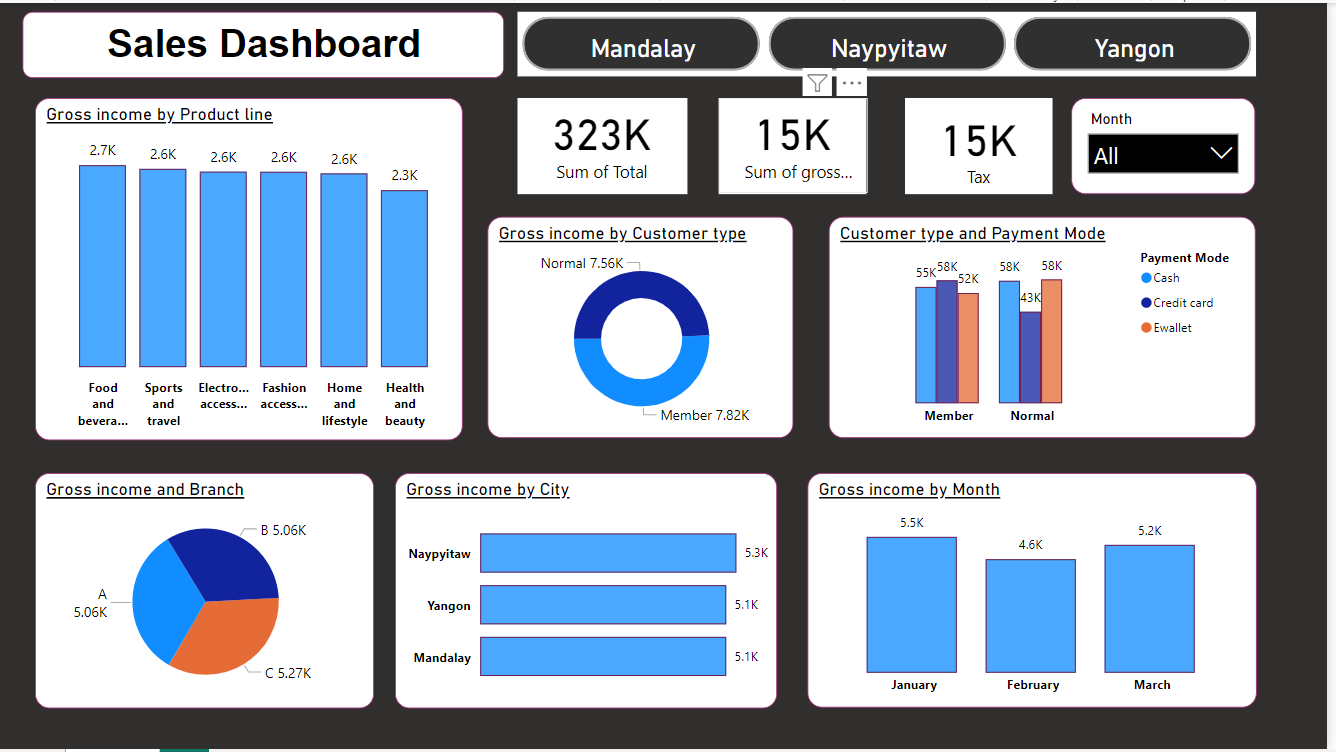

Layout of this report page (visuals, bound fields, positions):
{"tool":"powerbi","page":{"name":"Page 1","canvas":[1280,720],"ordinal":0},"visuals":[{"type":"textbox","box":[21.7,8.4,464.5,63.9],"z":0},{"type":"columnChart","title":"Gross income by Month","fields":{"Category":["supermarket_sales - Sheet1.Date.Variation.Date Hierarchy.Month"],"Y":["Sum(supermarket_sales - Sheet1.gross income)"]},"box":[779.7,453.3,433.3,226.6],"z":1000},{"type":"donutChart","title":"Gross income by Customer type","fields":{"Category":["supermarket_sales - Sheet1.Customer type"],"Y":["Sum(supermarket_sales - Sheet1.gross income)"]},"box":[470.4,206.7,295.1,213.8],"z":2000},{"type":"pieChart","title":"Gross income and Branch","fields":{"Y":["Sum(supermarket_sales - Sheet1.gross income)"],"Category":["supermarket_sales - Sheet1.Branch"]},"box":[33.8,453.6,326.9,226.8],"z":3000},{"type":"barChart","title":"Gross income by City","fields":{"Category":["supermarket_sales - Sheet1.City"],"Y":["Sum(supermarket_sales - Sheet1.gross income)"]},"box":[381.2,453.6,369.2,226.8],"z":4000},{"type":"advancedSlicerVisual","fields":{"Values":["supermarket_sales - Sheet1.City"]},"box":[499.5,8.4,713,62],"z":5000},{"type":"clusteredColumnChart","title":"Customer type and Payment Mode","fields":{"Category":["supermarket_sales - Sheet1.Customer type"],"Series":["supermarket_sales - Sheet1.Payment"],"Y":["Sum(supermarket_sales - Sheet1.Total)"]},"box":[799.6,206.7,411.9,213.8],"z":6000},{"type":"clusteredColumnChart","title":"Gross income by Product line","fields":{"Y":["Sum(supermarket_sales - Sheet1.gross income)"],"Category":["supermarket_sales - Sheet1.Product line"]},"box":[33.8,91.7,412.6,330.6],"z":7000},{"type":"cardVisual","fields":{"Data":["Sum(supermarket_sales - Sheet1.Total)"]},"box":[498.9,91.2,163.9,92.7],"z":8000},{"type":"cardVisual","fields":{"Data":["Sum(supermarket_sales - Sheet1.gross income)"]},"box":[694.2,91.2,142.5,92.7],"z":9000},{"type":"cardVisual","fields":{"Data":["Sum(supermarket_sales - Sheet1.Tax 5%)"]},"box":[873.8,91.2,142.5,92.7],"z":10000},{"type":"slicer","fields":{"Values":["supermarket_sales - Sheet1.Date.Variation.Date Hierarchy.Month"]},"box":[1033.9,91.7,177.3,92.9],"z":11000}]}

Visuals, with their boxes in screenshot pixels (x1, y1, x2, y2), scaled from the page's 1280x720 canvas onto the 1336x752 screenshot:
textbox: locate(23, 9, 507, 76)
"Gross income by Month" columnChart: locate(814, 473, 1266, 710)
"Gross income by Customer type" donutChart: locate(491, 216, 799, 439)
"Gross income and Branch" pieChart: locate(35, 474, 376, 711)
"Gross income by City" barChart: locate(398, 474, 783, 711)
advancedSlicerVisual - supermarket_sales - Sheet1.City: locate(521, 9, 1266, 74)
"Customer type and Payment Mode" clusteredColumnChart: locate(835, 216, 1265, 439)
"Gross income by Product line" clusteredColumnChart: locate(35, 96, 466, 441)
cardVisual - Sum(supermarket_sales - Sheet1.Total): locate(521, 95, 692, 192)
cardVisual - Sum(supermarket_sales - Sheet1.gross income): locate(725, 95, 873, 192)
cardVisual - Sum(supermarket_sales - Sheet1.Tax 5%): locate(912, 95, 1061, 192)
slicer - supermarket_sales - Sheet1.Date.Variation.Date Hierarchy.Month: locate(1079, 96, 1264, 193)
